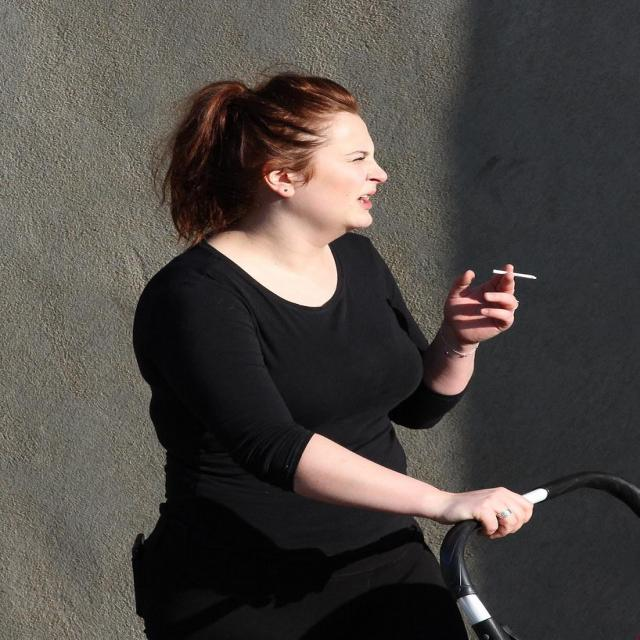Сигарета: (489, 268, 537, 280)
Тело: (136, 75, 530, 640)
